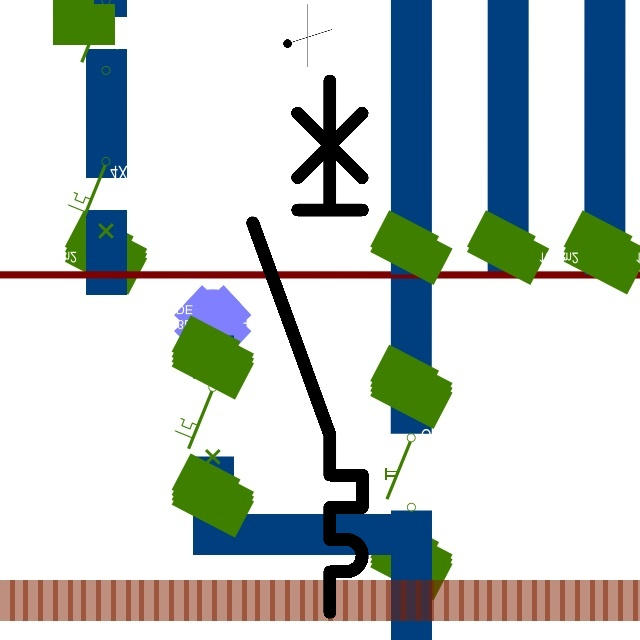interruptor_termomagnetico: (239, 67, 376, 625)
